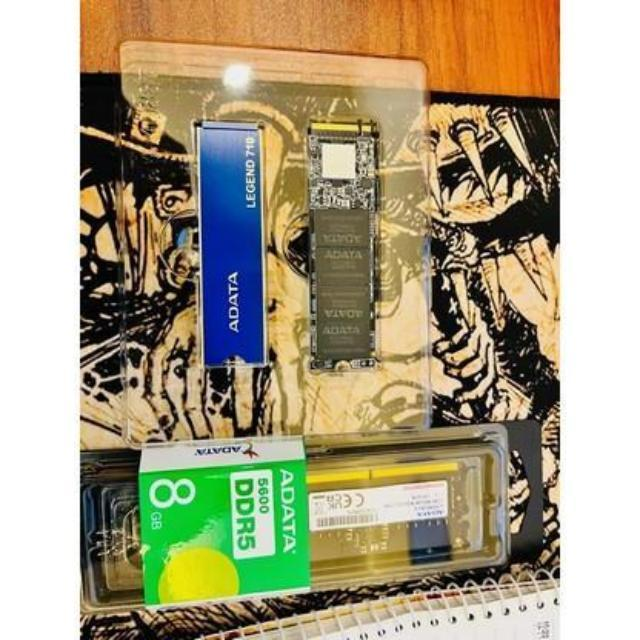RAM: (87, 456, 496, 579)
